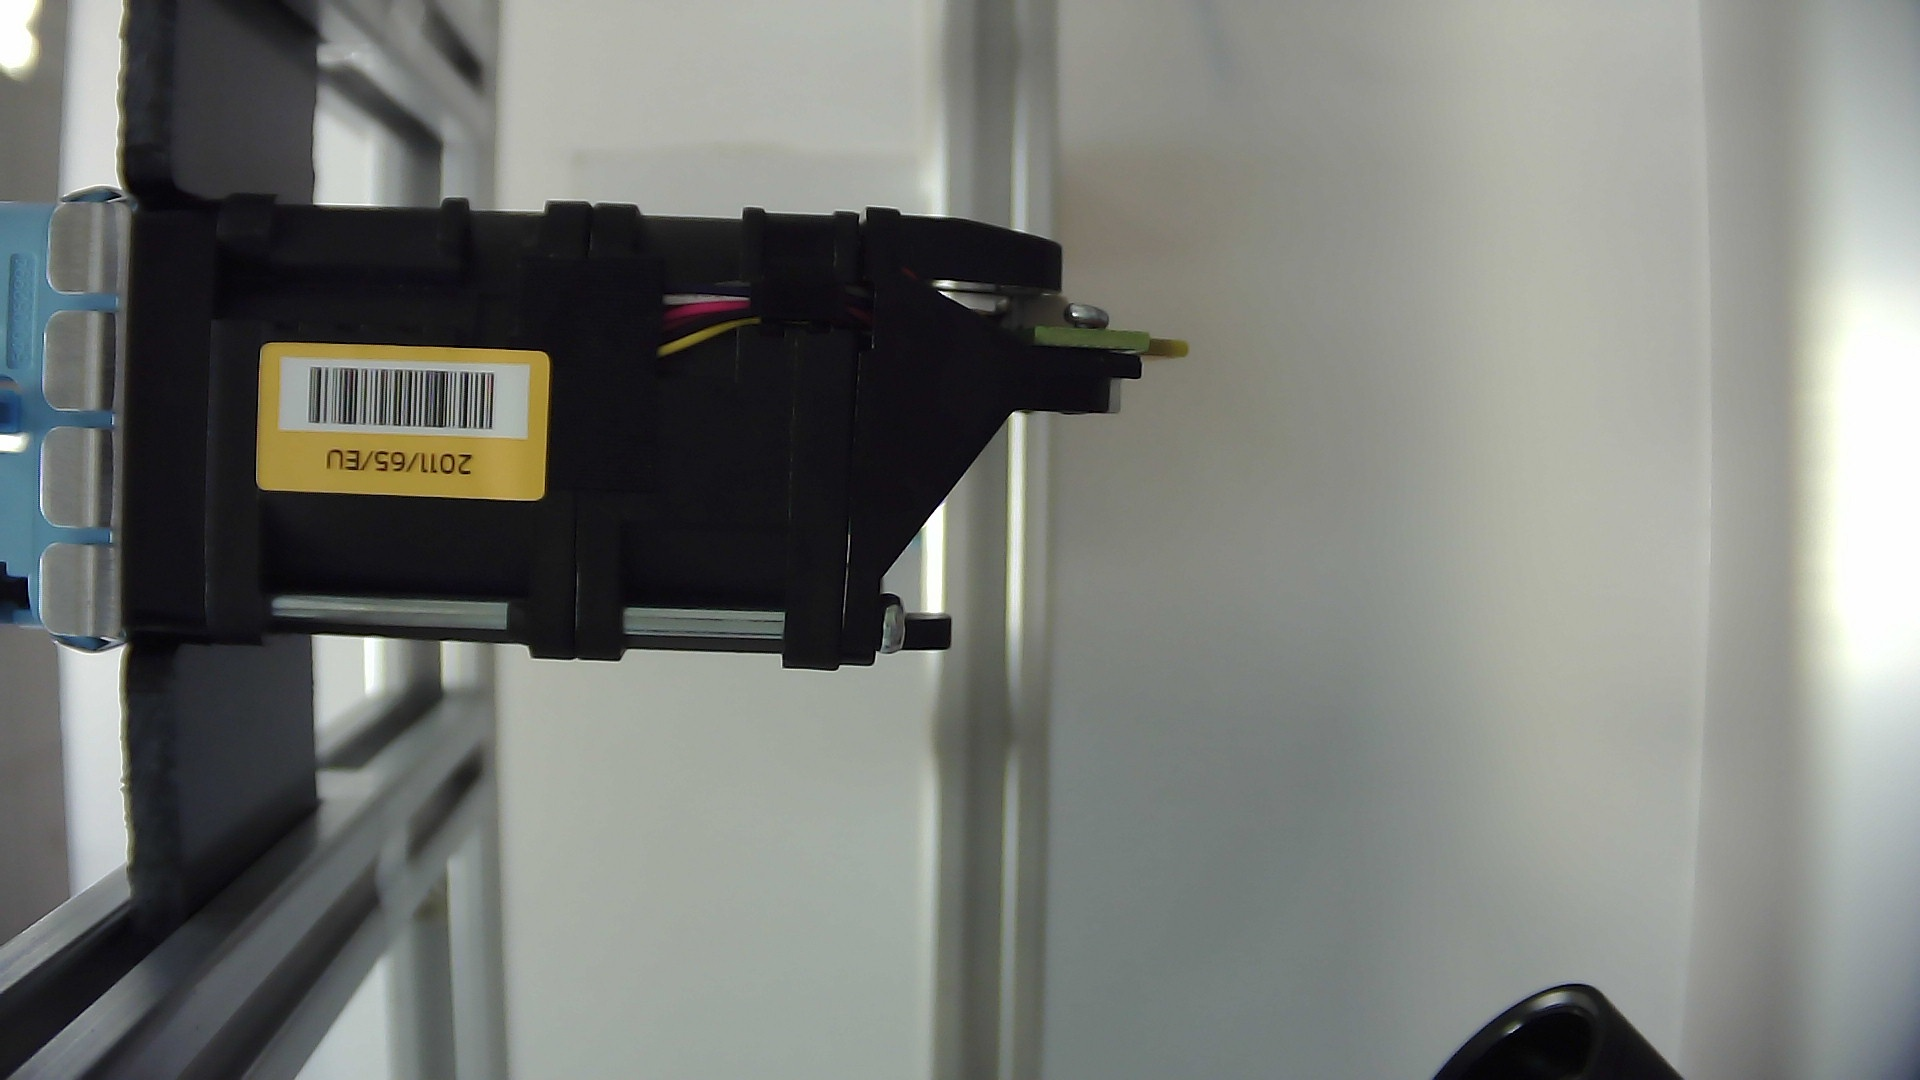2_0: (24, 90, 1854, 1059)
